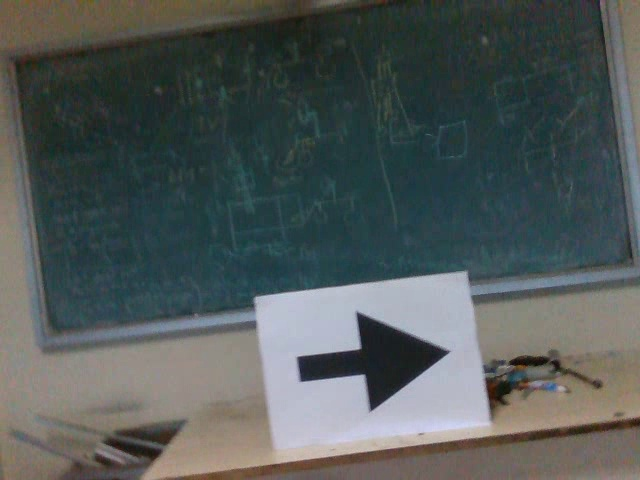Right: (290, 309, 454, 419)
